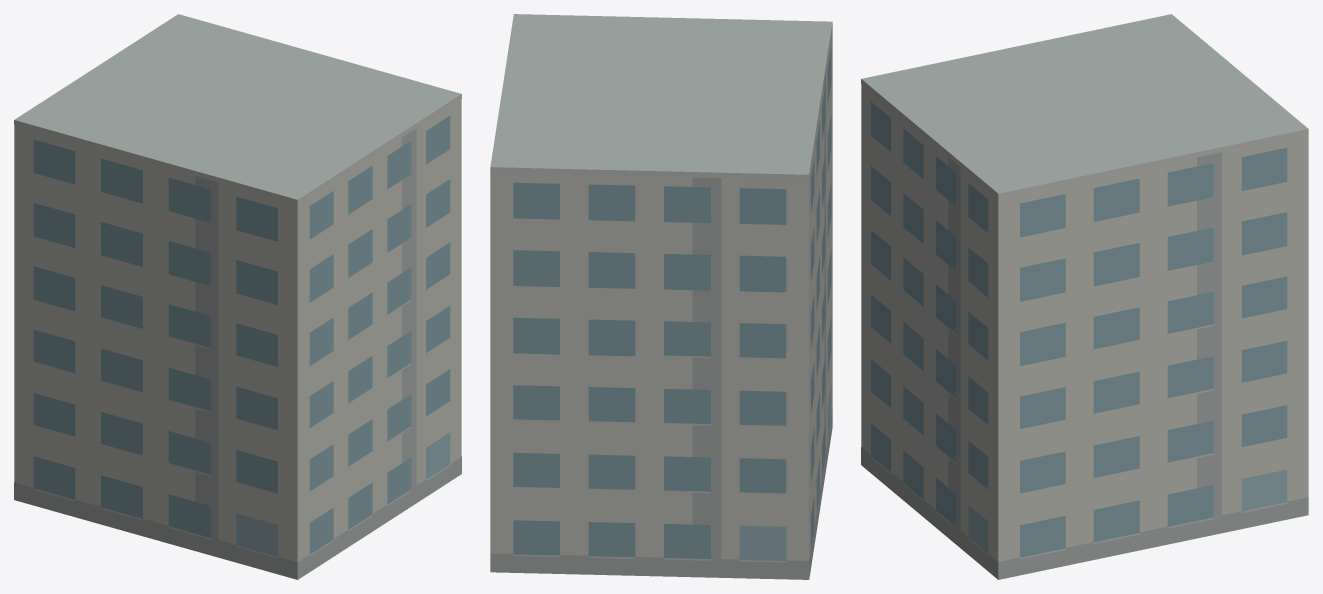
Rendered from survey-upis-32914744.glb.
3 renders of one model, left to right at view 1: azimuth 30°, elevation 25°; view 2: azimuth 150°, elevation 25°; view 3: azimuth 270°, elevation 25°, orthographic. The views are drawn at different scales.
Visible parts, largest first — view 1: survey-upis-32914744.tmp; view 2: survey-upis-32914744.tmp; view 3: survey-upis-32914744.tmp.
Part boxes in pixels (x1=…): survey-upis-32914744.tmp: x1=14, y1=14, x2=461, y2=579; survey-upis-32914744.tmp: x1=490, y1=14, x2=832, y2=579; survey-upis-32914744.tmp: x1=861, y1=14, x2=1308, y2=579.
Size of the model in its own units: 18.27 by 18.3 by 19.23.
